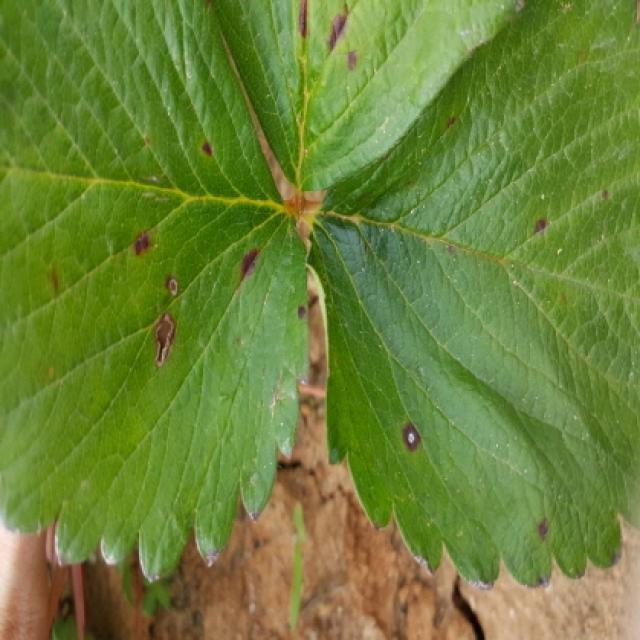Leaf Spot: (305, 0, 638, 590), (202, 0, 524, 191)
